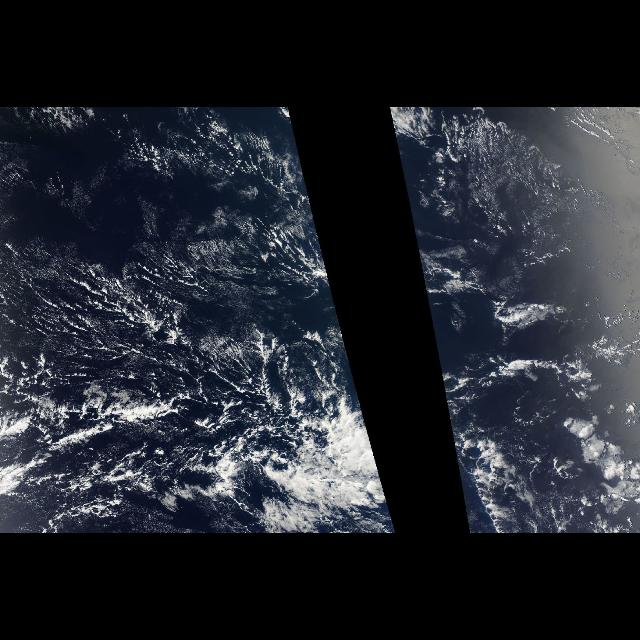Gravel: (10, 260, 168, 408)
Sugar: (13, 126, 306, 324), (448, 116, 612, 268)
